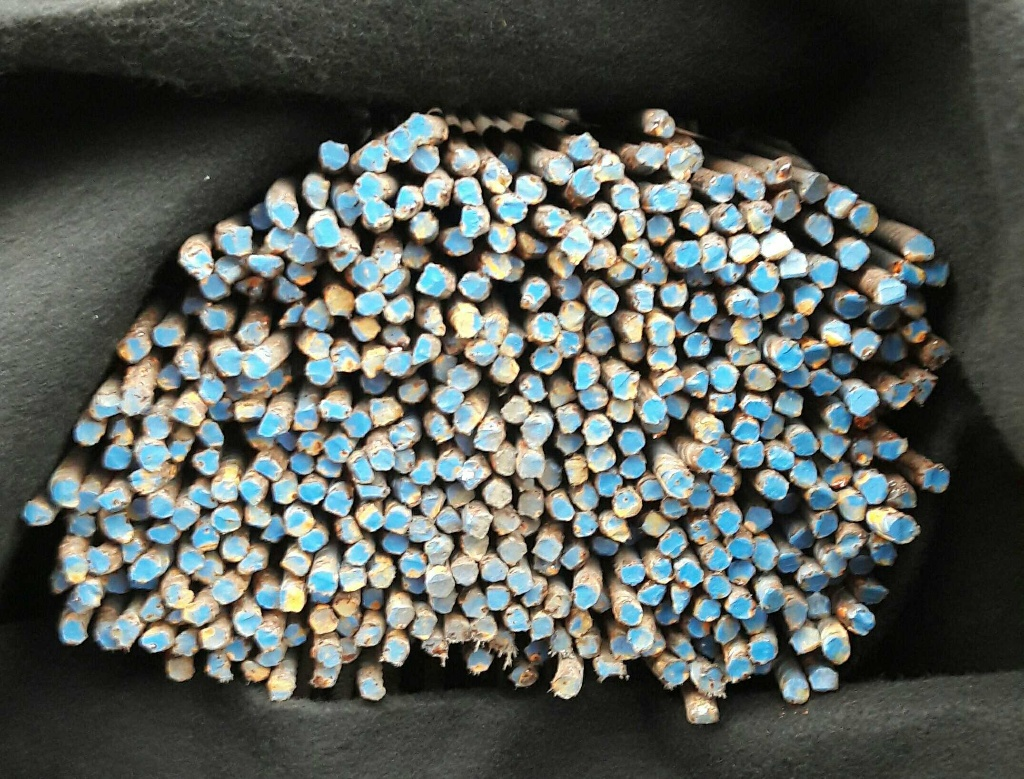dipstick: (360, 139, 389, 173), (851, 329, 882, 360), (620, 239, 652, 269), (287, 233, 318, 263), (562, 228, 591, 260), (516, 174, 546, 204), (825, 190, 856, 219), (389, 129, 417, 161), (879, 331, 908, 361), (326, 285, 354, 316), (417, 265, 445, 296), (729, 318, 762, 344), (320, 141, 349, 170), (453, 176, 482, 205), (794, 285, 823, 314), (840, 241, 869, 270), (904, 233, 933, 262), (303, 179, 331, 209), (412, 144, 440, 174), (773, 190, 801, 220), (847, 605, 875, 635), (221, 228, 252, 255), (273, 472, 299, 504), (305, 301, 333, 330), (404, 114, 432, 143), (354, 259, 382, 288), (484, 165, 512, 194), (520, 278, 549, 306), (530, 313, 559, 341), (751, 263, 779, 292), (823, 461, 852, 489), (398, 376, 428, 403), (730, 234, 760, 261), (806, 214, 833, 244), (747, 201, 773, 232), (465, 340, 497, 365), (488, 225, 516, 253), (830, 349, 858, 377), (463, 512, 492, 539), (422, 179, 451, 206), (612, 490, 641, 517), (590, 288, 617, 317), (820, 432, 849, 459), (849, 389, 878, 416), (887, 381, 916, 408), (791, 627, 821, 653), (810, 371, 841, 396), (184, 250, 212, 277), (332, 345, 360, 372), (356, 505, 384, 532), (491, 356, 519, 383), (520, 374, 548, 401), (450, 148, 478, 175), (587, 326, 614, 354), (775, 390, 803, 417), (870, 540, 898, 567), (483, 253, 511, 280), (356, 174, 385, 200), (569, 484, 598, 510), (560, 302, 586, 331), (573, 167, 599, 196), (309, 609, 339, 634), (876, 280, 906, 305), (669, 150, 693, 181), (778, 364, 810, 387), (521, 420, 548, 447), (570, 133, 597, 160), (612, 183, 639, 210), (745, 506, 772, 533), (802, 174, 829, 201), (729, 593, 756, 620), (890, 515, 917, 542), (861, 477, 888, 504), (270, 203, 298, 229), (324, 490, 352, 516), (385, 295, 411, 323), (460, 272, 488, 298), (444, 228, 472, 254), (461, 207, 487, 235), (499, 197, 527, 223), (566, 610, 592, 638), (660, 529, 686, 557), (640, 510, 668, 536), (546, 156, 572, 184), (647, 345, 675, 371), (708, 174, 734, 202), (690, 518, 718, 544), (777, 343, 803, 371), (759, 291, 785, 319), (762, 233, 790, 259), (781, 250, 809, 276), (827, 404, 853, 432), (812, 260, 838, 288), (925, 342, 951, 370), (619, 211, 644, 240), (780, 314, 809, 339), (140, 445, 167, 471), (371, 397, 397, 424), (403, 240, 429, 267), (691, 294, 717, 321), (667, 472, 694, 498), (805, 592, 831, 619), (788, 521, 814, 548), (790, 460, 816, 487), (104, 444, 132, 469), (343, 412, 371, 437), (350, 317, 378, 342), (637, 144, 665, 169), (680, 211, 708, 236), (742, 606, 767, 634), (901, 317, 929, 342), (287, 261, 316, 285), (211, 508, 240, 532), (362, 198, 391, 222), (355, 291, 384, 315), (459, 535, 488, 559), (555, 430, 584, 454), (586, 447, 615, 471), (730, 294, 759, 318), (877, 435, 906, 459), (565, 454, 588, 484), (52, 480, 78, 506), (222, 536, 248, 562), (325, 437, 351, 463), (306, 359, 332, 385), (471, 616, 497, 642), (462, 592, 488, 618), (459, 461, 485, 487), (456, 311, 482, 337), (642, 258, 668, 284), (697, 418, 723, 444), (739, 173, 765, 199), (545, 210, 571, 236), (199, 274, 226, 299), (118, 338, 145, 363), (114, 620, 139, 647), (192, 526, 219, 551), (485, 482, 512, 507), (700, 668, 727, 693), (720, 205, 745, 232), (687, 482, 712, 509), (737, 442, 764, 467), (782, 679, 809, 704), (278, 276, 306, 300), (578, 385, 606, 409), (766, 446, 794, 470), (811, 667, 839, 691), (837, 531, 865, 555), (925, 464, 949, 492), (391, 187, 414, 216), (837, 295, 866, 318), (156, 365, 182, 390), (216, 350, 241, 376), (242, 352, 267, 378), (286, 512, 312, 537), (437, 507, 463, 532), (519, 452, 544, 478), (584, 419, 610, 444), (694, 595, 720, 620), (556, 275, 582, 300), (587, 211, 612, 237), (648, 320, 674, 345), (675, 241, 700, 267), (712, 366, 738, 391), (899, 264, 925, 289), (315, 218, 339, 245), (409, 212, 436, 236), (533, 537, 560, 561), (571, 585, 598, 609), (669, 586, 693, 613), (614, 372, 638, 399), (853, 206, 877, 233), (824, 322, 851, 346), (234, 400, 262, 423), (551, 676, 579, 699), (259, 413, 288, 435), (216, 257, 241, 282), (236, 611, 261, 636), (438, 387, 463, 412), (805, 343, 830, 368), (825, 639, 850, 664), (91, 395, 117, 419), (64, 556, 88, 582), (413, 613, 437, 639), (501, 399, 527, 423), (664, 661, 690, 685), (642, 398, 666, 424), (660, 282, 686, 306), (728, 560, 754, 584), (813, 511, 837, 537), (823, 551, 847, 577), (841, 496, 867, 520), (850, 439, 874, 465), (131, 559, 158, 582), (446, 482, 473, 505), (475, 429, 502, 452), (684, 333, 711, 356), (748, 367, 775, 390), (253, 459, 281, 481), (321, 398, 349, 420), (195, 449, 219, 474), (391, 424, 416, 448), (386, 508, 410, 533), (369, 563, 394, 587), (436, 455, 460, 480), (533, 346, 557, 371), (518, 494, 543, 518), (574, 512, 598, 537), (678, 562, 703, 586), (556, 331, 580, 356), (763, 476, 788, 500), (760, 587, 784, 612), (891, 484, 916, 508), (69, 514, 95, 537), (267, 677, 293, 700), (298, 482, 324, 505), (428, 574, 454, 597), (596, 472, 622, 495), (620, 455, 646, 478), (607, 399, 633, 422), (609, 256, 635, 279), (24, 503, 51, 525), (171, 508, 198, 530), (498, 542, 525, 564), (704, 548, 731, 570), (213, 580, 237, 604), (146, 415, 170, 439), (200, 421, 224, 445), (620, 429, 644, 453), (702, 245, 726, 269), (754, 545, 778, 569), (174, 404, 199, 427), (123, 391, 148, 414), (352, 458, 375, 483), (425, 540, 450, 563), (520, 581, 543, 606), (546, 594, 571, 617), (628, 628, 653, 651), (573, 363, 596, 388), (667, 395, 690, 420), (773, 491, 798, 514), (761, 414, 784, 439), (709, 316, 732, 341), (99, 489, 125, 511), (72, 588, 98, 610), (167, 658, 193, 680), (297, 432, 323, 454), (382, 641, 408, 663), (452, 562, 478, 584), (384, 353, 410, 375), (611, 636, 637, 658), (620, 340, 646, 362), (281, 555, 308, 576), (690, 704, 718, 724), (858, 584, 886, 604), (200, 378, 223, 402), (280, 588, 303, 612), (310, 572, 334, 595), (290, 451, 314, 474), (505, 607, 529, 630), (449, 366, 473, 389), (501, 333, 524, 357), (621, 563, 645, 586), (717, 511, 740, 535), (711, 472, 735, 495), (149, 525, 178, 544), (388, 607, 413, 629), (400, 555, 425, 577), (482, 559, 507, 581), (620, 601, 642, 626), (784, 602, 806, 627), (250, 203, 271, 229), (409, 337, 430, 363), (639, 584, 665, 605), (707, 390, 734, 410), (562, 546, 585, 569), (209, 398, 233, 420), (384, 532, 408, 554), (341, 569, 365, 591), (445, 620, 469, 642), (717, 617, 739, 641), (810, 488, 835, 509), (395, 448, 415, 474), (733, 421, 759, 441), (239, 481, 261, 504), (257, 586, 279, 609), (372, 448, 395, 470), (336, 615, 359, 637), (410, 519, 433, 541), (486, 587, 509, 609), (509, 571, 532, 593), (552, 498, 575, 520), (791, 433, 814, 455), (75, 423, 99, 444), (148, 495, 172, 516), (201, 628, 225, 649), (709, 575, 730, 599), (749, 640, 773, 661), (662, 497, 686, 518), (316, 456, 341, 476), (555, 412, 580, 432), (688, 373, 708, 398), (802, 571, 827, 591), (657, 376, 683, 395), (744, 402, 770, 421), (77, 492, 99, 514), (62, 621, 84, 643), (241, 323, 263, 345), (318, 645, 340, 667), (728, 658, 750, 680), (213, 481, 236, 502), (699, 448, 722, 469), (202, 309, 226, 329), (246, 507, 270, 527), (345, 544, 369, 564), (512, 666, 536, 686), (111, 521, 133, 542), (129, 498, 150, 520), (180, 551, 202, 572), (256, 628, 278, 649), (412, 462, 433, 484), (651, 560, 672, 582), (675, 312, 697, 333), (647, 216, 669, 237), (654, 115, 675, 137), (155, 326, 178, 346), (144, 631, 167, 651), (294, 410, 317, 430), (285, 623, 305, 646), (299, 530, 322, 550), (362, 680, 385, 700), (634, 288, 653, 312), (728, 540, 752, 559), (531, 616, 552, 637), (641, 479, 662, 500), (688, 617, 710, 637), (779, 552, 801, 572), (313, 668, 336, 687), (270, 228, 291, 248), (363, 589, 384, 609), (188, 604, 209, 623), (356, 628, 378, 645), (467, 653, 487, 671)
